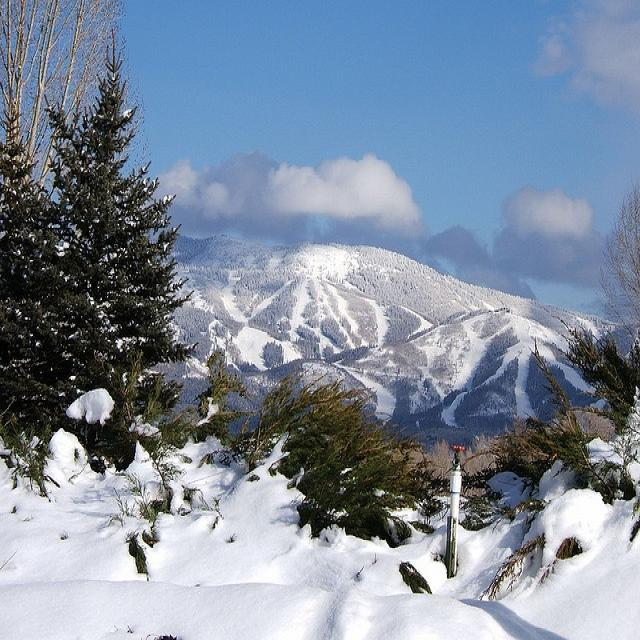fire_hydrant: (447, 444, 465, 521)
